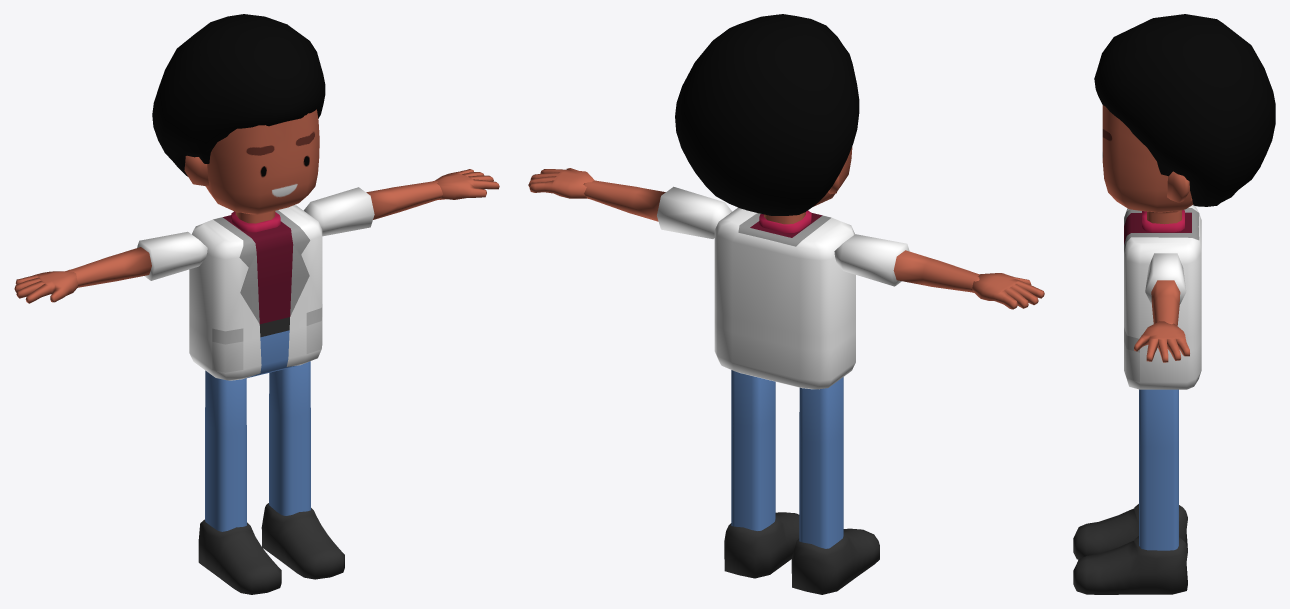
The model's file is NPC_Black02_BlackHair01.gltf.
3 views of the same model, side by side, from view 1: azimuth 30°, elevation 25°; view 2: azimuth 150°, elevation 25°; view 3: azimuth 270°, elevation 25° (orthographic). The views are drawn at different scales.
Parts seen in each view (by area): view 1: NPC_Corpo_Black2_BlackHair.001; view 2: NPC_Corpo_Black2_BlackHair.001; view 3: NPC_Corpo_Black2_BlackHair.001.
Part boxes in pixels (<box>): NPC_Corpo_Black2_BlackHair.001: <box>14,14,499,594</box>; NPC_Corpo_Black2_BlackHair.001: <box>528,14,1044,594</box>; NPC_Corpo_Black2_BlackHair.001: <box>1073,14,1275,594</box>.
Size of the model in its own units: 2.31 by 2.41 by 0.8168.
Materials: 1 (1 with a texture image).
